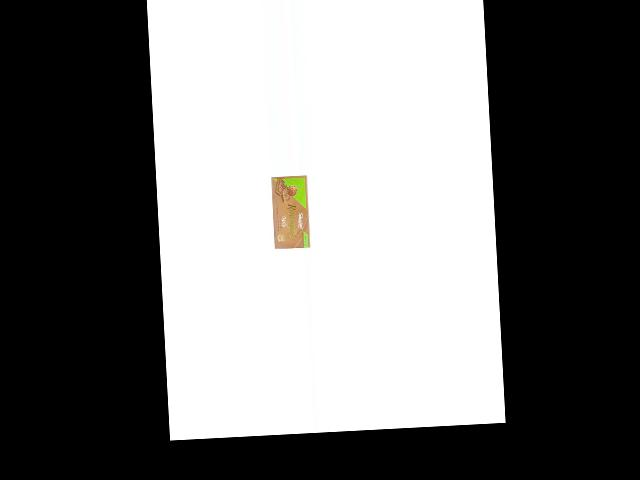chocolate: (269, 174, 313, 251)
